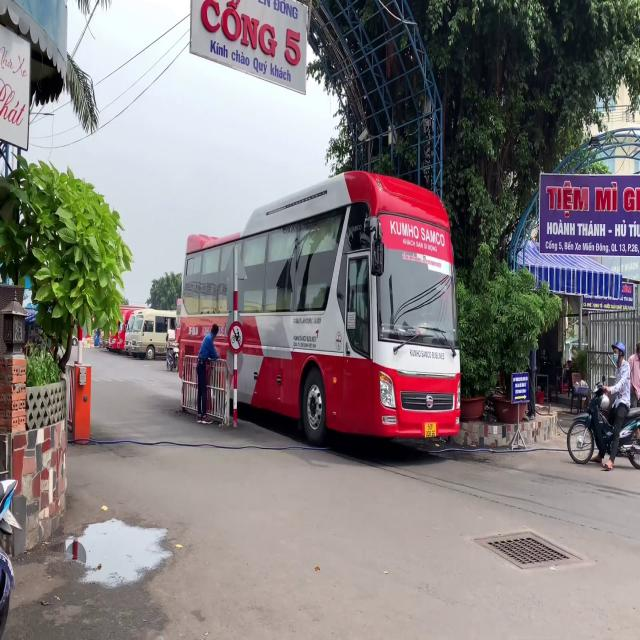bien_vang: (425, 422, 437, 438)
